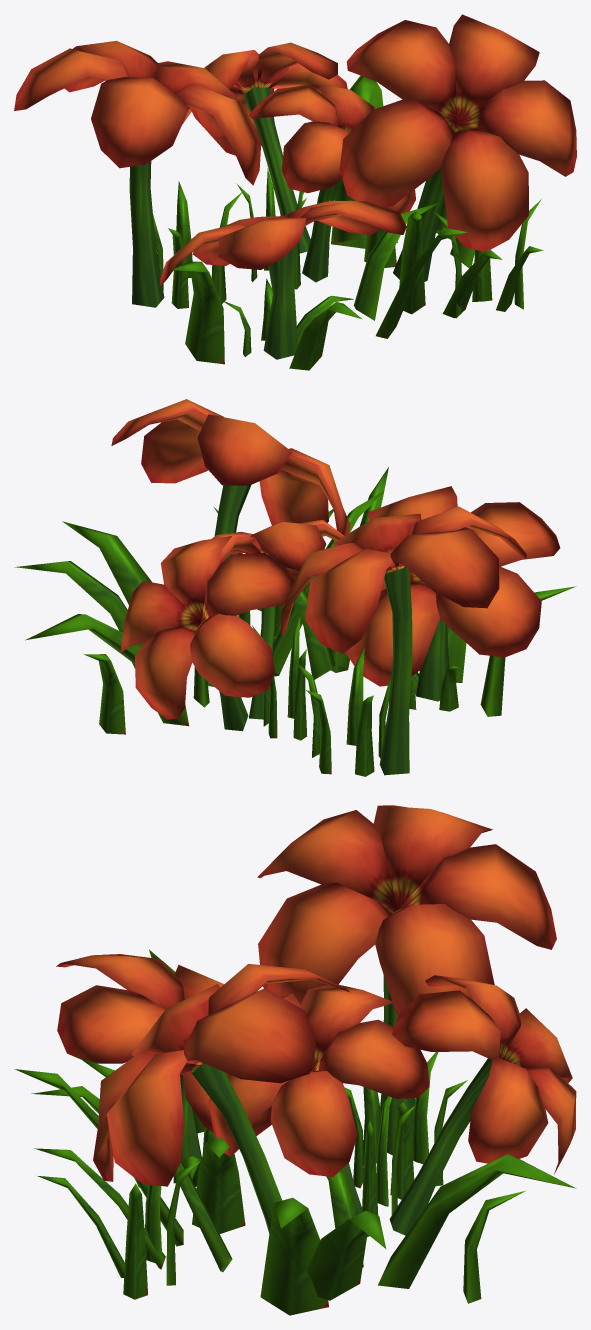
Rendered from Flower_02.FBX.
The picture shows the model from 3 angles, top to bottom: view 1: azimuth 30°, elevation 25°; view 2: azimuth 150°, elevation 25°; view 3: azimuth 270°, elevation 25°; orthographic projection. The views are drawn at different scales.
Visible parts, largest first — view 1: Flower_02; view 2: Flower_02; view 3: Flower_02.
Part boxes in pixels (box(x1,y1,x2,y2)): Flower_02: box(14, 14, 576, 370); Flower_02: box(14, 399, 576, 776); Flower_02: box(14, 805, 576, 1315).
Size of the model in its own units: 19.38 by 9.84 by 15.67.
Materials: 1 (1 with a texture image).
